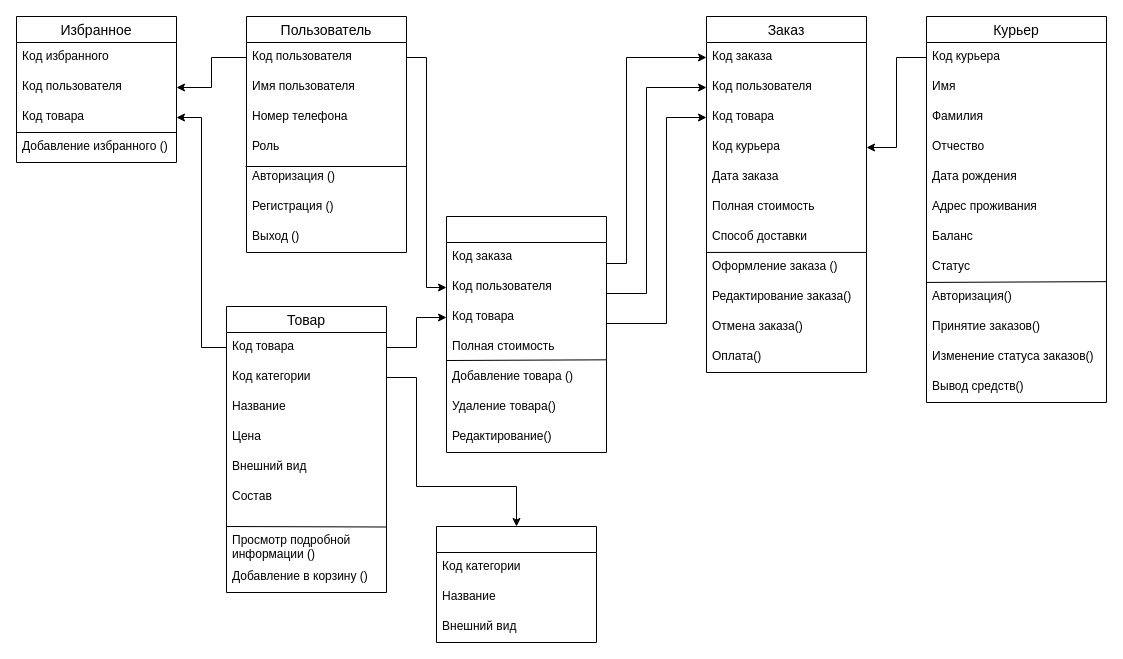
Image size: 1123x659. Some labels were removed from this diagram. Each missing label, with the box of its shape:
Категория товаров: (436, 526, 596, 642)
Корзина: (446, 216, 606, 452)
